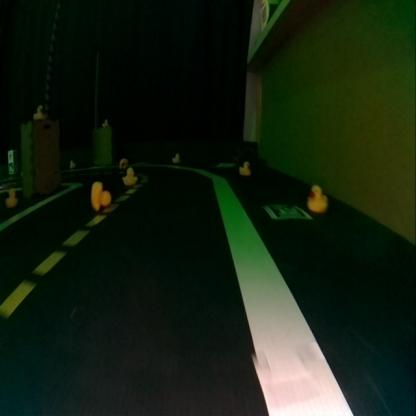Duckie: (93, 179, 110, 208), (308, 184, 326, 211), (121, 169, 136, 183), (6, 188, 17, 207), (238, 161, 251, 176), (32, 104, 43, 120), (118, 157, 127, 165), (172, 152, 178, 160), (68, 158, 75, 164), (102, 118, 107, 126)
QR code: (263, 204, 313, 220)
